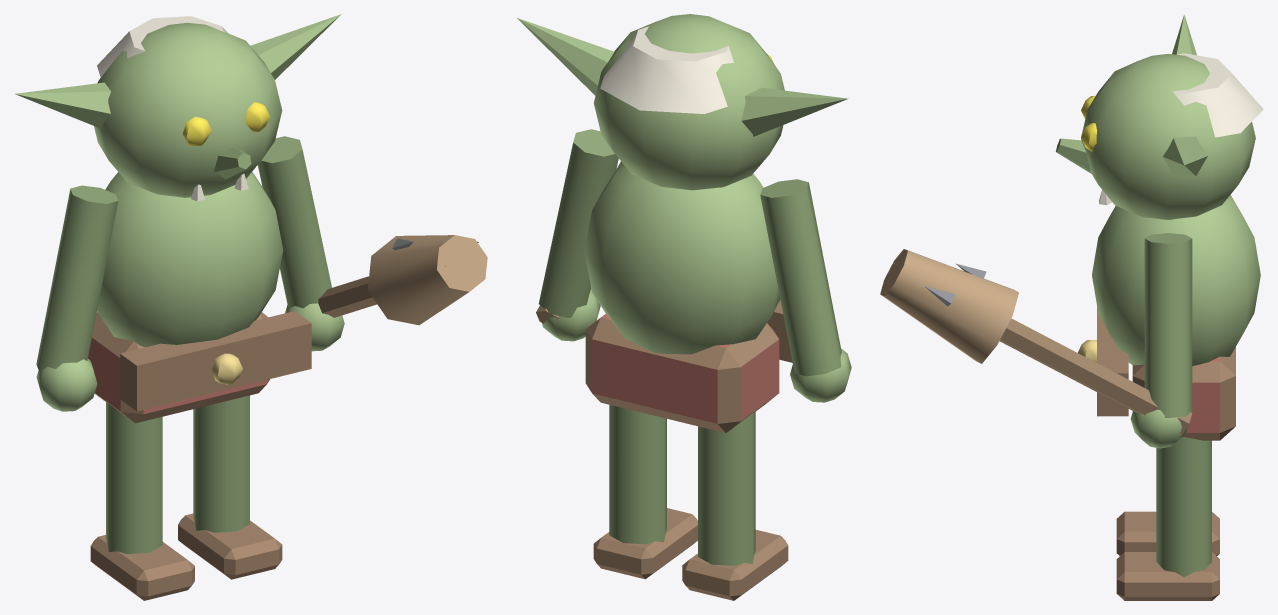
File: hd_brute.glb
3 views of the same model, side by side, from view 1: azimuth 30°, elevation 25°; view 2: azimuth 150°, elevation 25°; view 3: azimuth 270°, elevation 25° (orthographic). The views are drawn at different scales.
Parts seen in each view (by area): view 1: hd_brute; view 2: hd_brute; view 3: hd_brute.
Part boxes in pixels (x1,y1,x2,y2): hd_brute: (15,14,487,600); hd_brute: (517,14,851,600); hd_brute: (880,14,1263,600).
Size of the model in its own units: 1.47 by 2.25 by 1.54.
